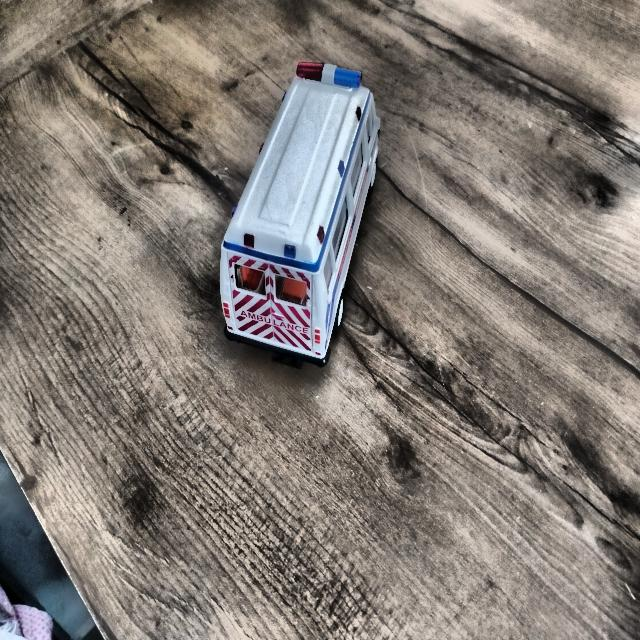Ambulance: (207, 56, 389, 384)
